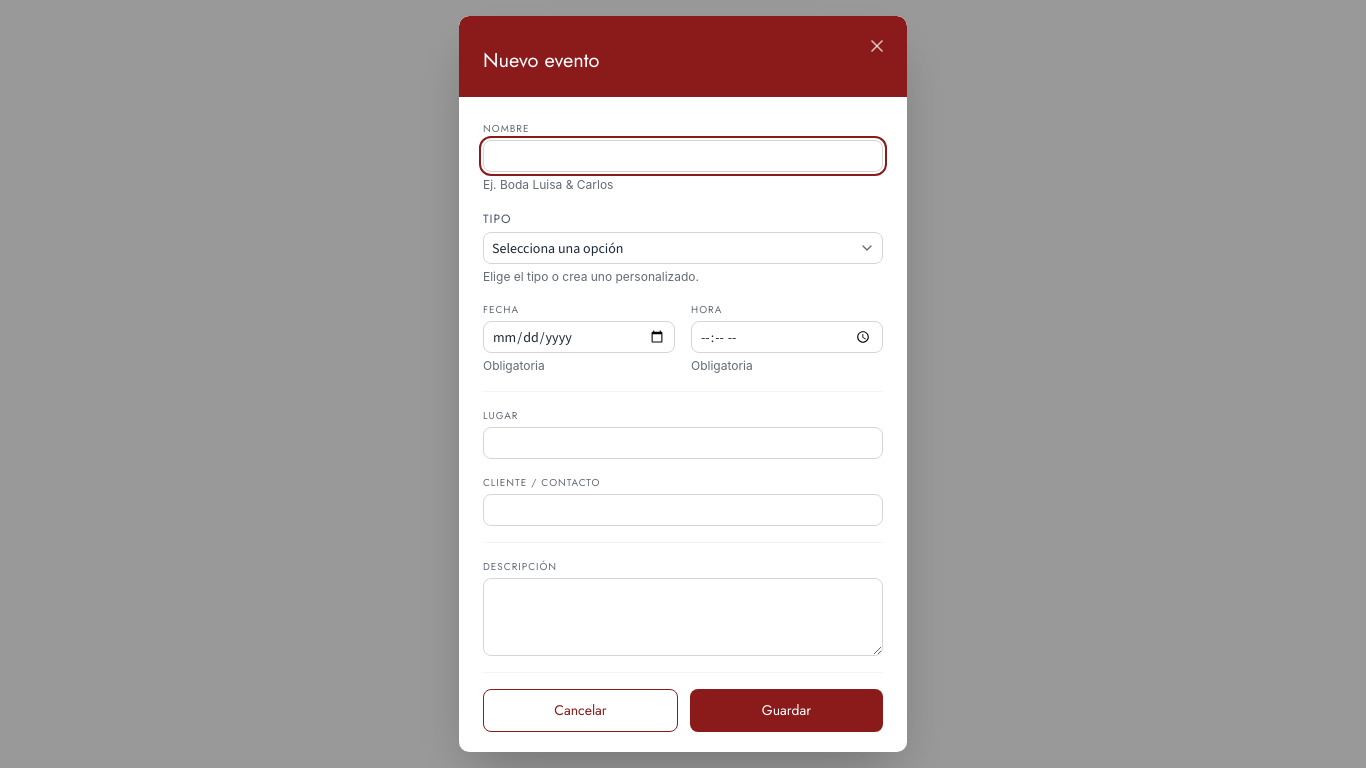
Scenario: EventFormModal › enviar vacío muestra los errores de los campos obligatorios
Expected: the dropdown labelled "Tipo" is enabled, [483, 232, 883, 264]
Click the button "Guardar" at coordinates (786, 711), box [690, 689, 883, 732]
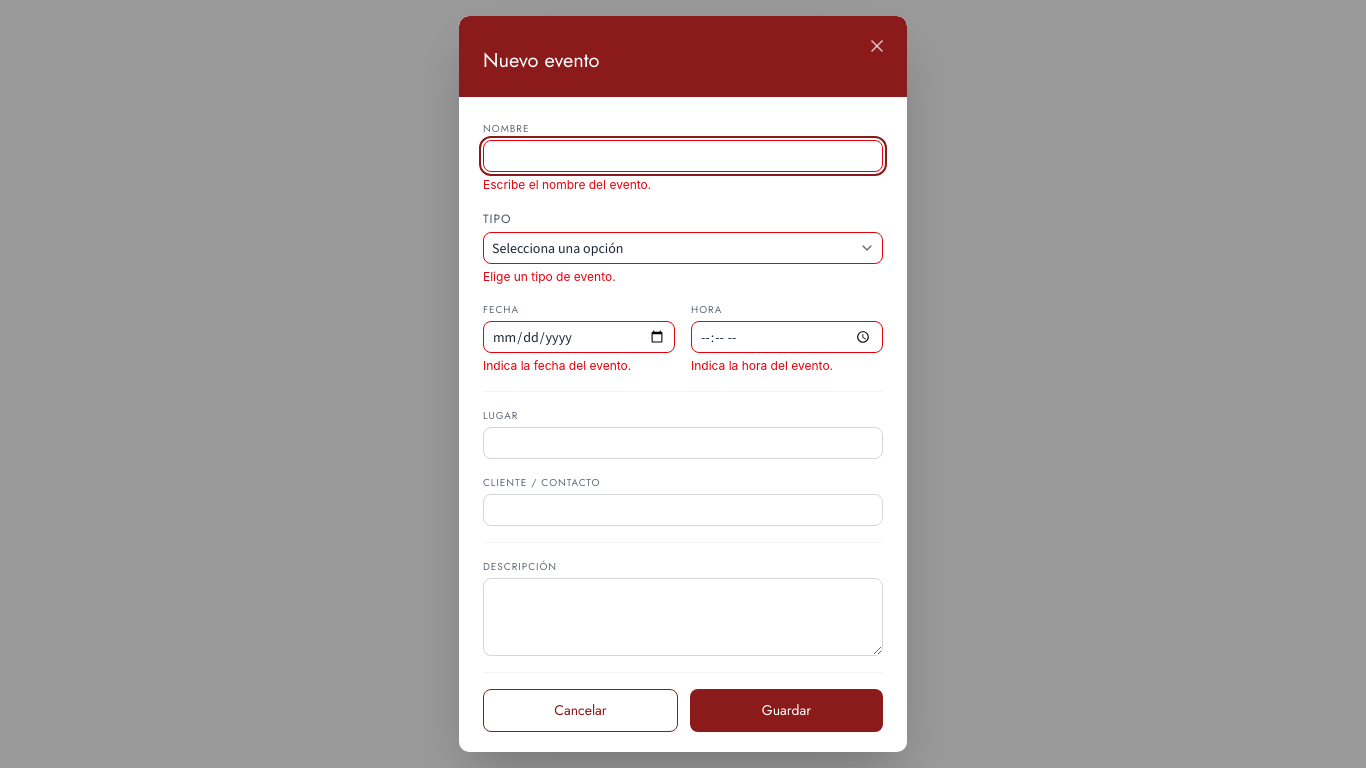
Expected: the text "Escribe el nombre del evento." is shown, [483, 177, 651, 192]
Expected: the text "Elige un tipo de evento." is shown, [483, 269, 616, 284]
Expected: the text "Indica la fecha del evento." is shown, [483, 358, 631, 373]
